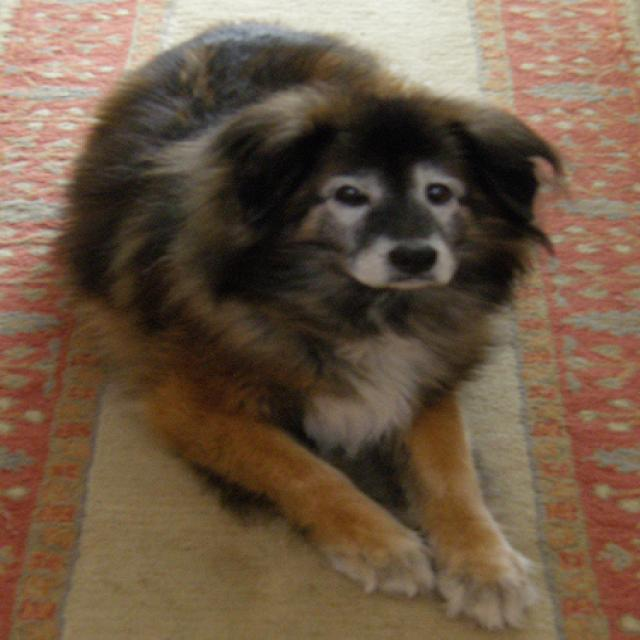dog-leonberger: (51, 17, 556, 632)
